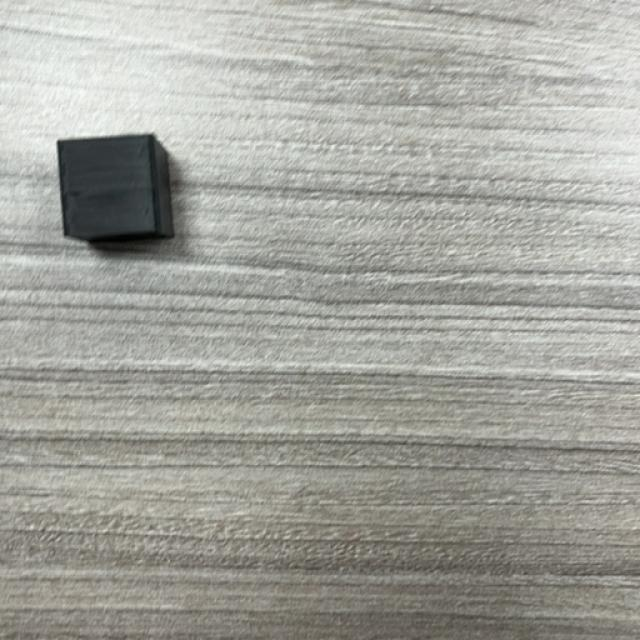Negro: (56, 134, 178, 246)
